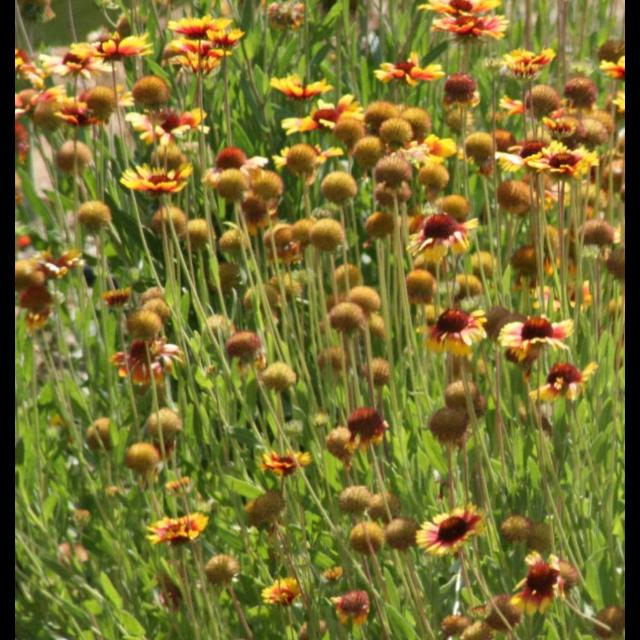Flower: (334, 398, 398, 459), (403, 207, 473, 251), (420, 509, 488, 553), (418, 1, 502, 36), (434, 307, 488, 351), (528, 148, 592, 184), (123, 159, 191, 189), (284, 105, 358, 131), (499, 324, 568, 350), (151, 519, 205, 543), (172, 13, 228, 35), (510, 42, 550, 72), (270, 74, 326, 94)
